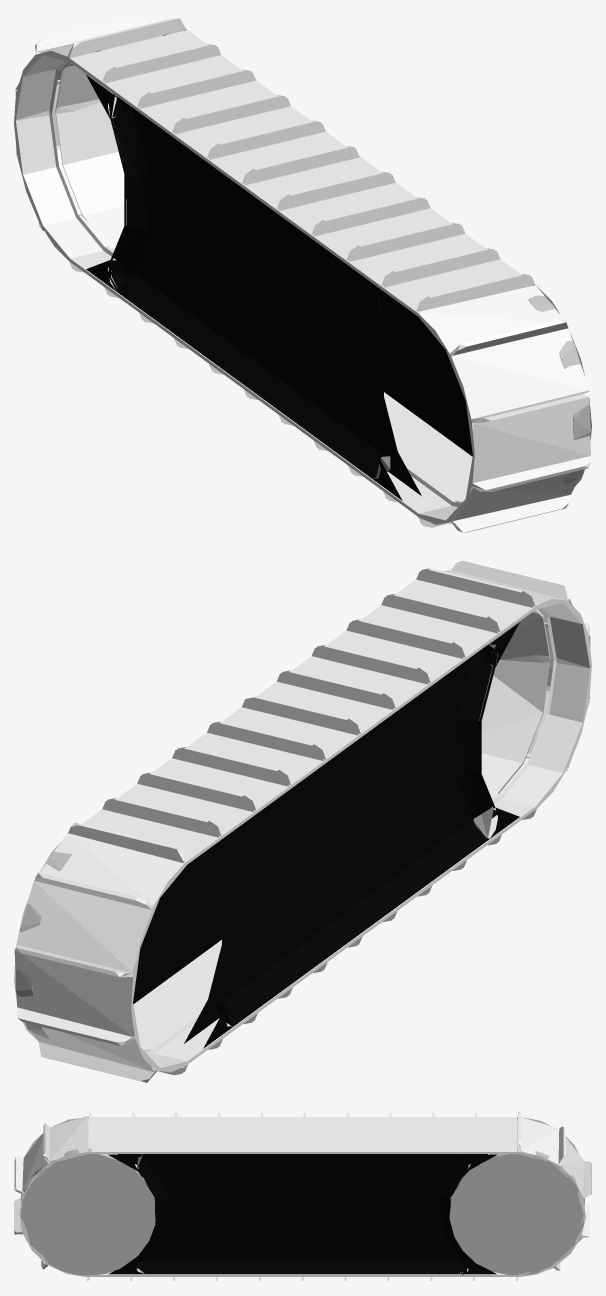
The model's file is bogie.dae.
3 views of the same model, one above another, from view 1: azimuth 30°, elevation 25°; view 2: azimuth 150°, elevation 25°; view 3: azimuth 270°, elevation 25° (orthographic). The views are drawn at different scales.
Visible parts, largest first — view 1: node; view 2: node; view 3: node.
Part boxes in pixels (<box>): node: <box>14,14,591,532</box>; node: <box>14,561,591,1082</box>; node: <box>14,1111,591,1281</box>.
Size of the model in its own units: 0.8588 by 1.6 by 5.97.
1 material, 1 textured.
